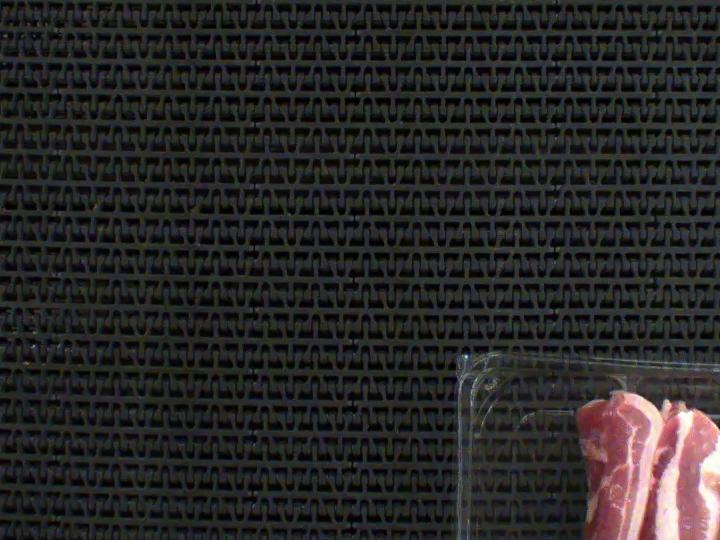packaging-error: (602, 370, 647, 397)
